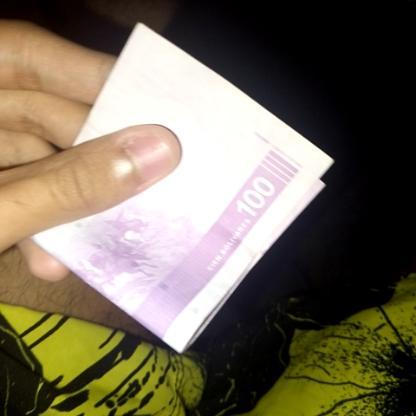one_hundred-front-vef: (5, 20, 335, 356)
